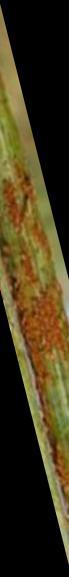Wheat: (2, 243, 69, 367), (2, 159, 43, 235)
